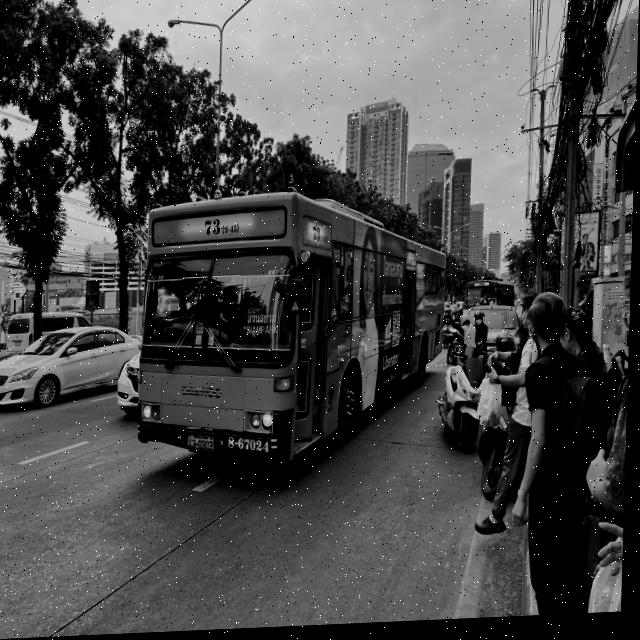BMTA-bus: (129, 189, 451, 479)
Bus-Line-Number: (190, 213, 257, 242)
Destination-Sign-Normal: (247, 308, 282, 344)
